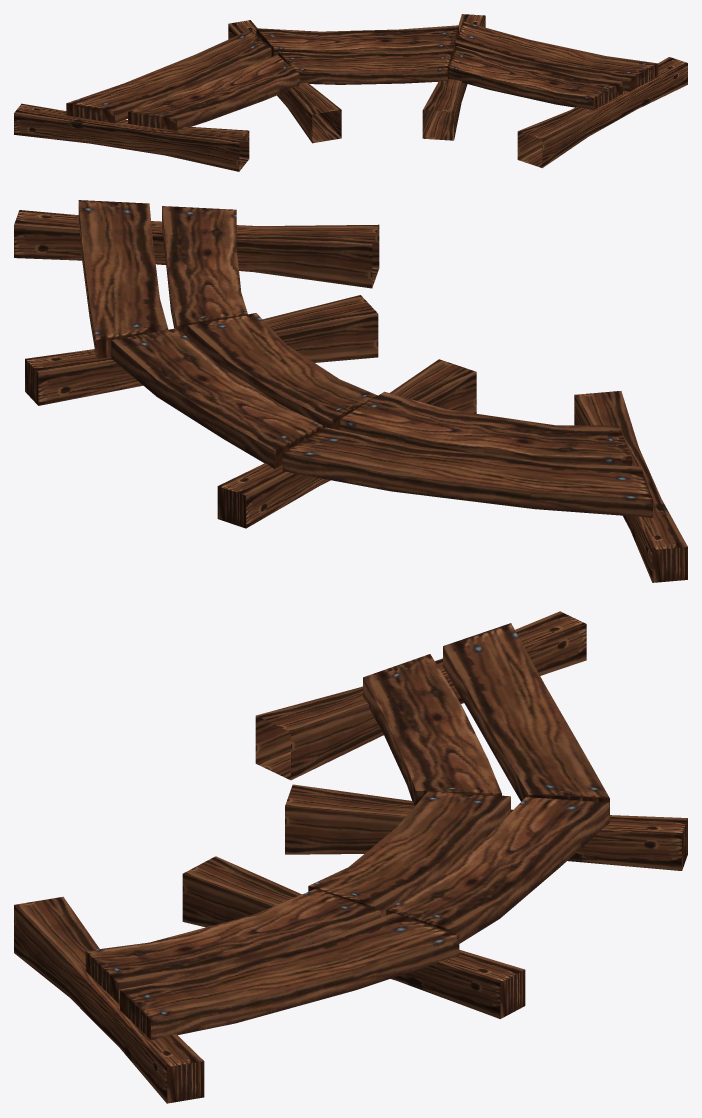
Rendered from OVERHILL_A_01_WOOD_BOARD_45.obj.
3 views of the same model, one above another, from view 1: azimuth 30°, elevation 25°; view 2: azimuth 150°, elevation 25°; view 3: azimuth 270°, elevation 25° (orthographic). The views are drawn at different scales.
Parts seen in each view (by area): view 1: wood_board_45; view 2: wood_board_45; view 3: wood_board_45.
Part boxes in pixels (<box>): wood_board_45: <box>14,14,687,171</box>; wood_board_45: <box>14,200,687,582</box>; wood_board_45: <box>14,611,687,1103</box>.
Size of the model in its own units: 452 by 28.39 by 282.
